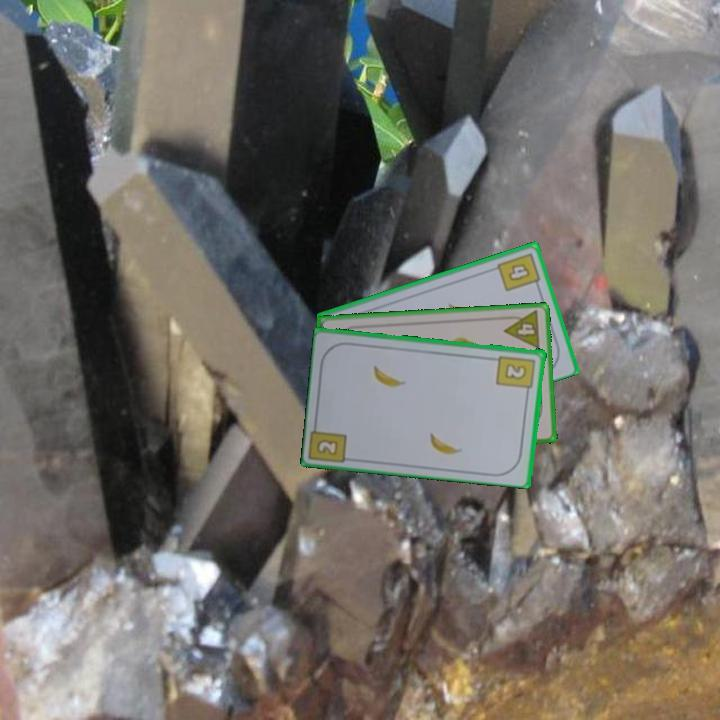2b: (494, 352, 538, 397), (315, 437, 339, 456)
4b: (493, 249, 543, 294)
4p: (500, 307, 543, 352)
